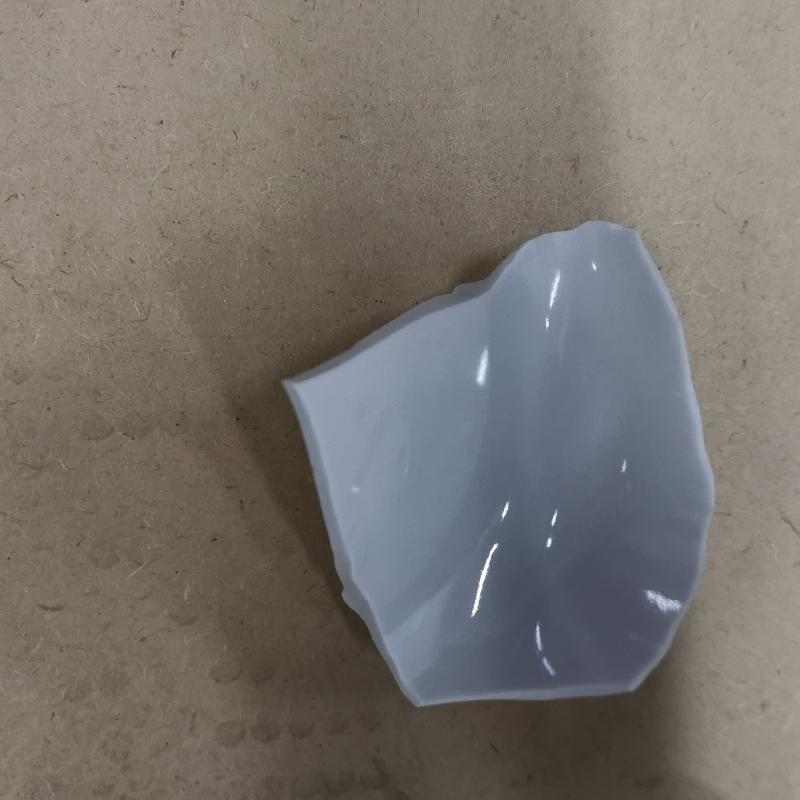ceram: (277, 216, 720, 711)
